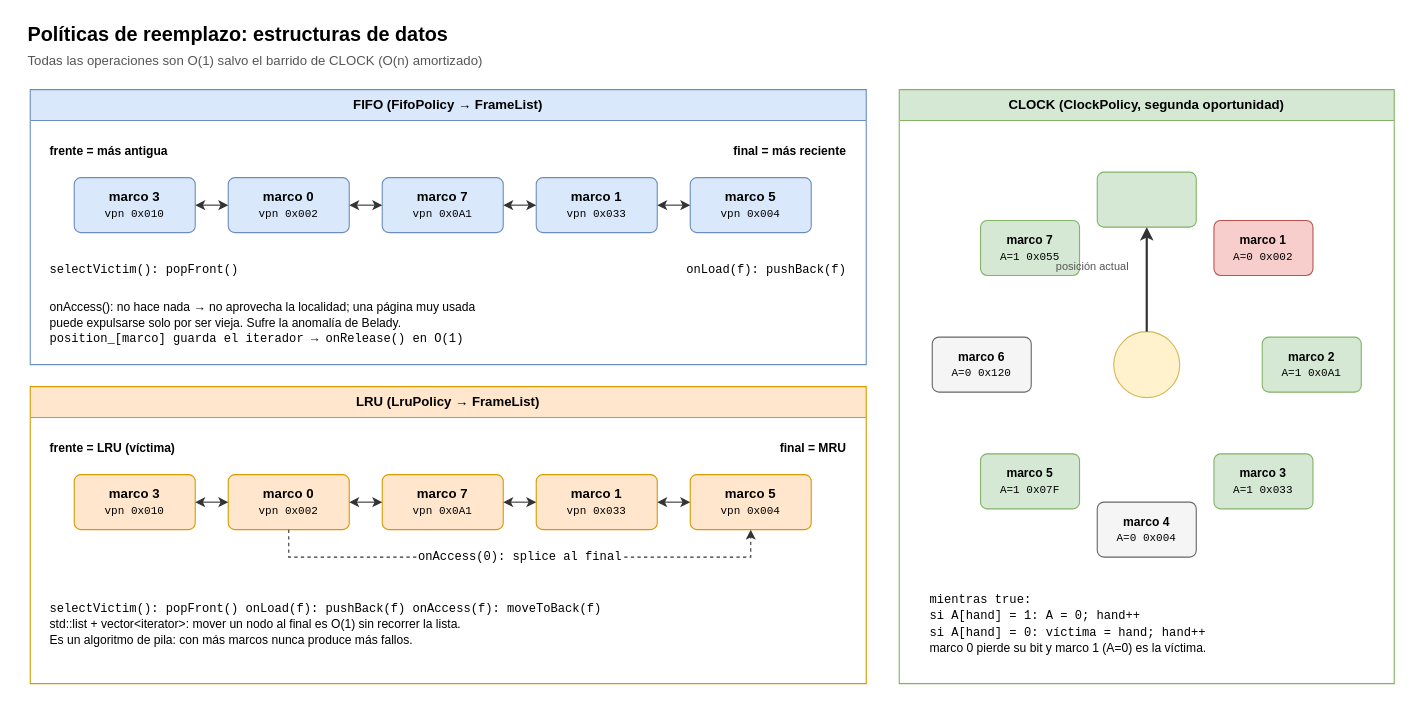
This 1423x703 diagram has some shape labels left out. The centre of each missing label's shape, as x and y in pixels:
"hand" belongs at point (1146, 364).
"marco 0 A=1 0x010" belongs at point (1146, 199).
